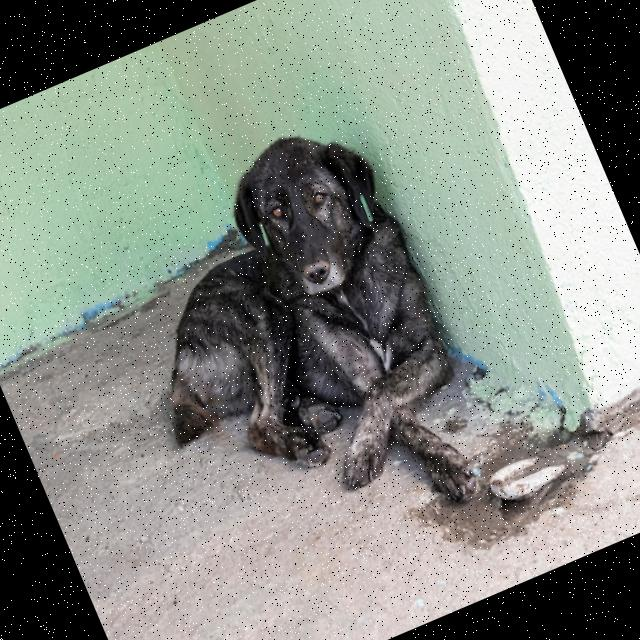Dog: (82, 105, 510, 596)
